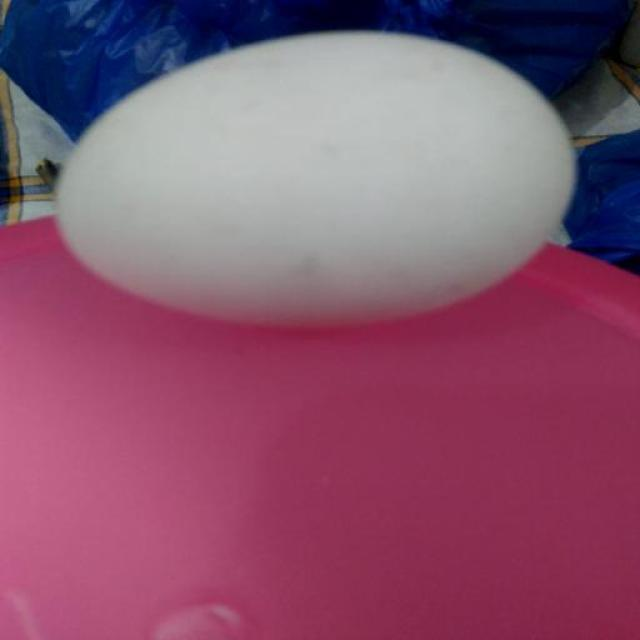telur: (50, 26, 582, 336)
